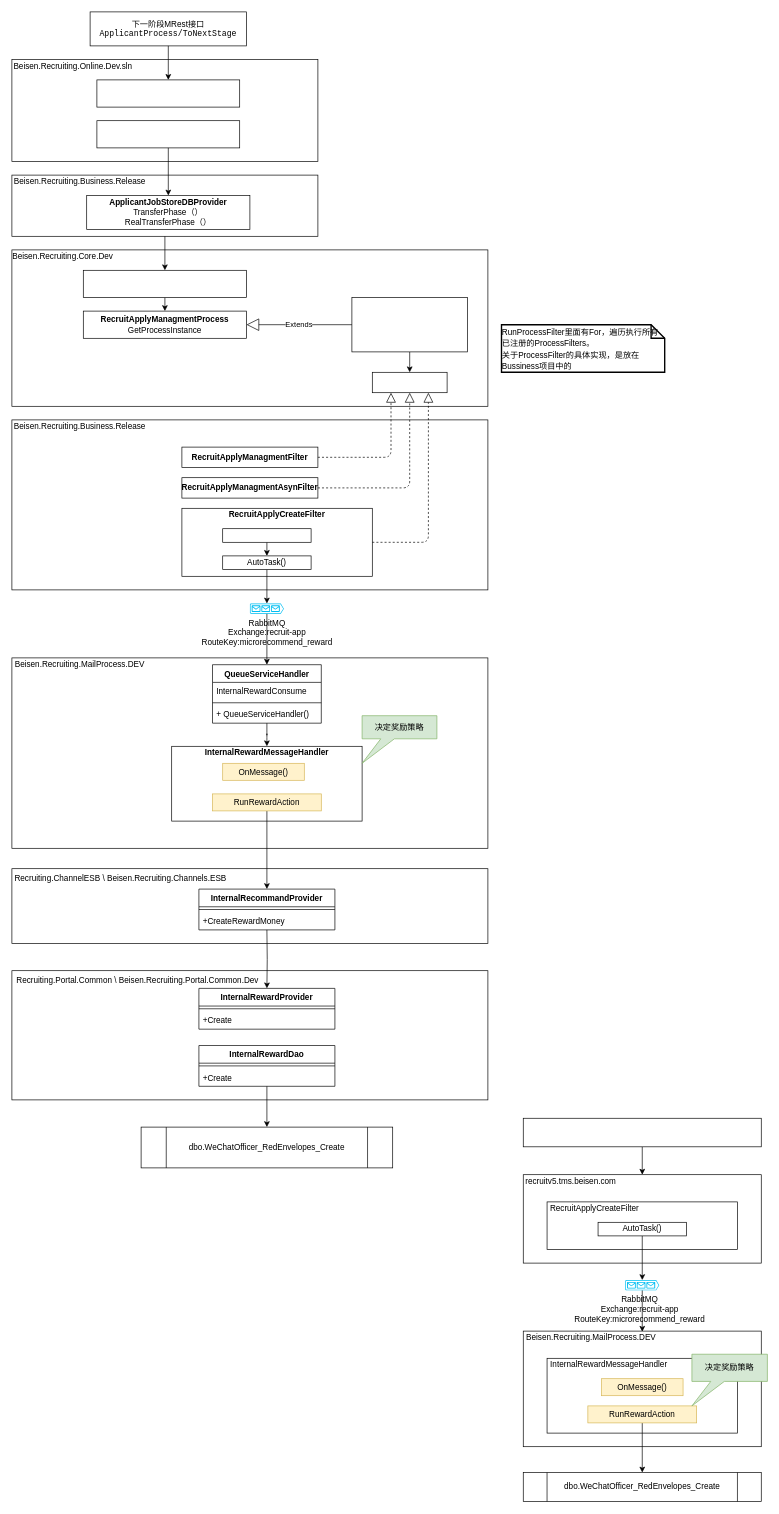
Some shapes in this 779 by 1514 pixel diagram are drawn without their labels. Here are the shapes that lost their labels. From the top down, the centre of each, then its label:
At [168,93]: "ApplicantProcessController _ToNextStage".
At [168,134]: "ApplicantProcessController TransferPhaseInternal".
At [165,284]: "ProcessFactory GetProcessInstance".
At [409,324]: "AbstractRecruitProcess MoveTo MoveToFirstPhase MoveToNextPhase RunProcessFilter".
At [409,382]: "IProcessFilter".
At [266,535]: "AfterMoveTo()".
At [642,1132]: "转移阶段接口".
